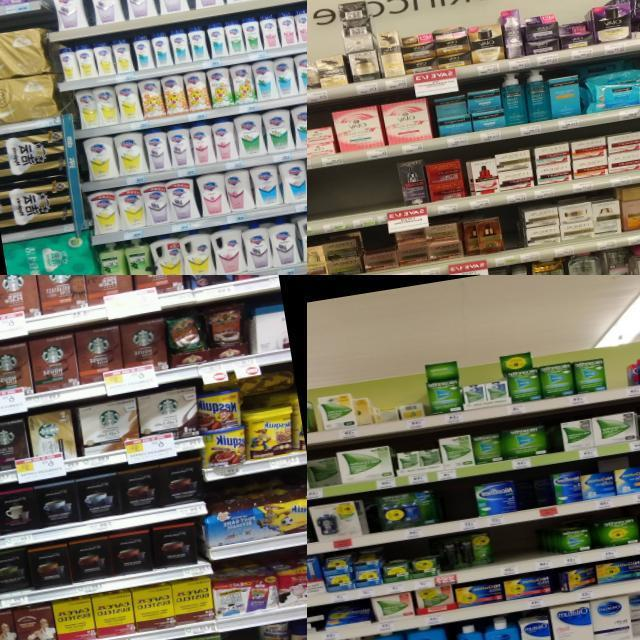empty: (368, 160, 405, 225), (340, 163, 376, 229), (314, 169, 348, 233), (444, 486, 479, 533), (490, 528, 522, 577), (498, 207, 524, 265), (516, 522, 546, 572), (605, 356, 631, 400), (307, 171, 322, 237)
